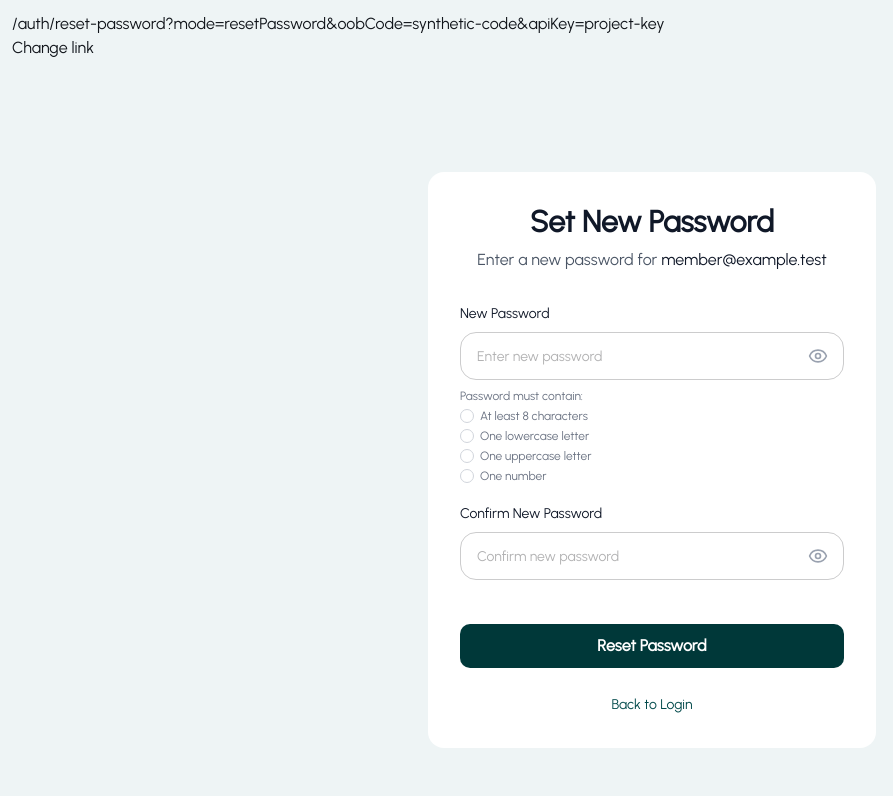
Scenario: prevents duplicate password submissions while confirmation is pending and after success
This screenshot has width=893, height=796.
Type "Secure123" into the password field labelled "New Password" at (652, 356), box [460,332,844,380]
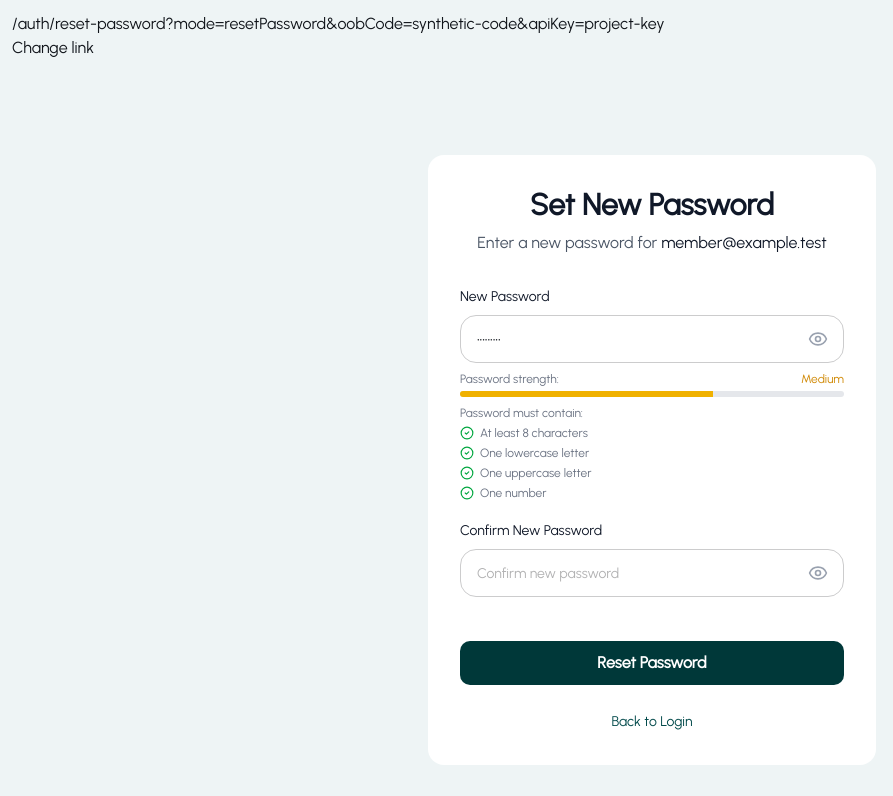
Type "Secure123" into the password field labelled "Confirm New Password" at (652, 573), box [460,549,844,597]
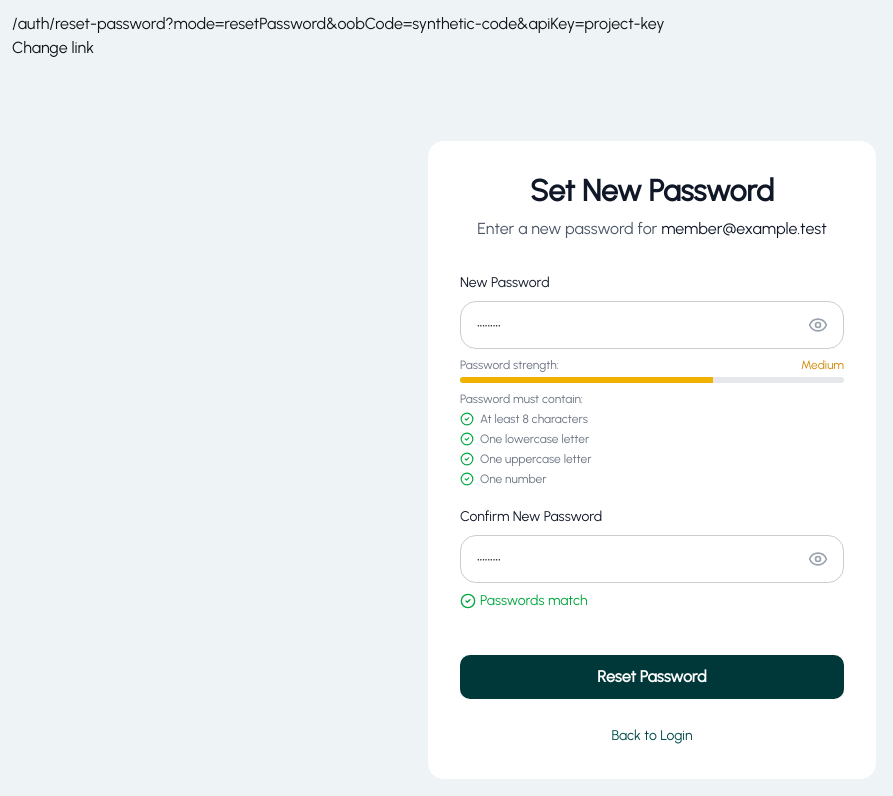
Submit the form labelled "New Password", box [460,273,844,699]
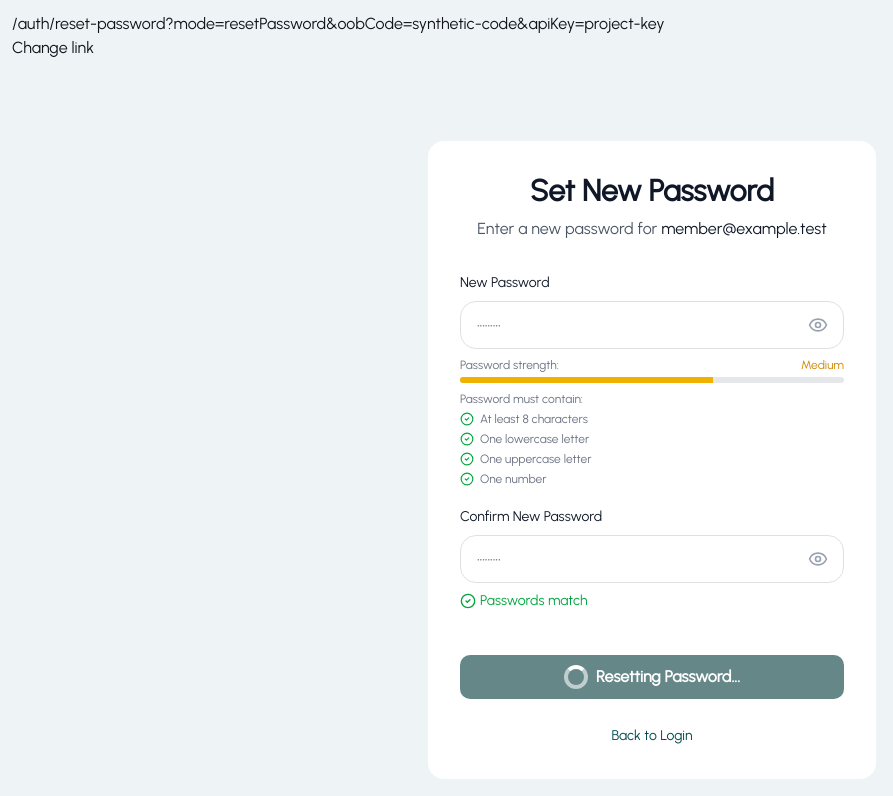
Submit the form labelled "New Password", box [460,273,844,699]
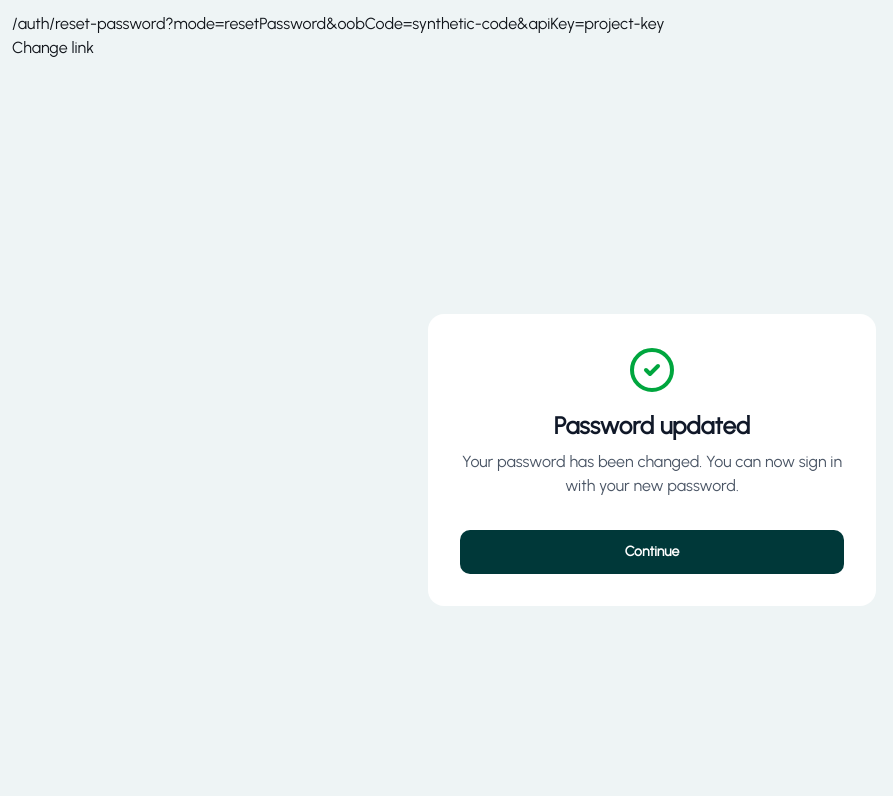
Check: the heading "Password updated" is shown, box [554,411,750,440]
Check: the label "Reset Password" is gone
